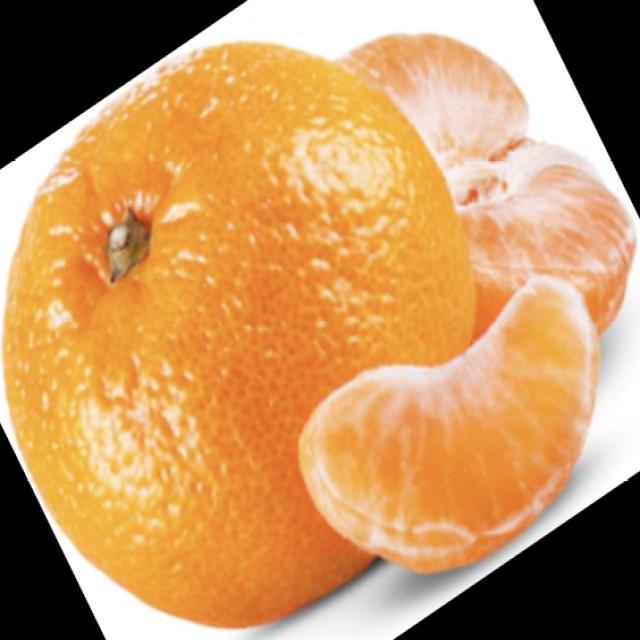matang: (6, 44, 475, 624), (299, 276, 598, 571), (342, 34, 634, 334)
